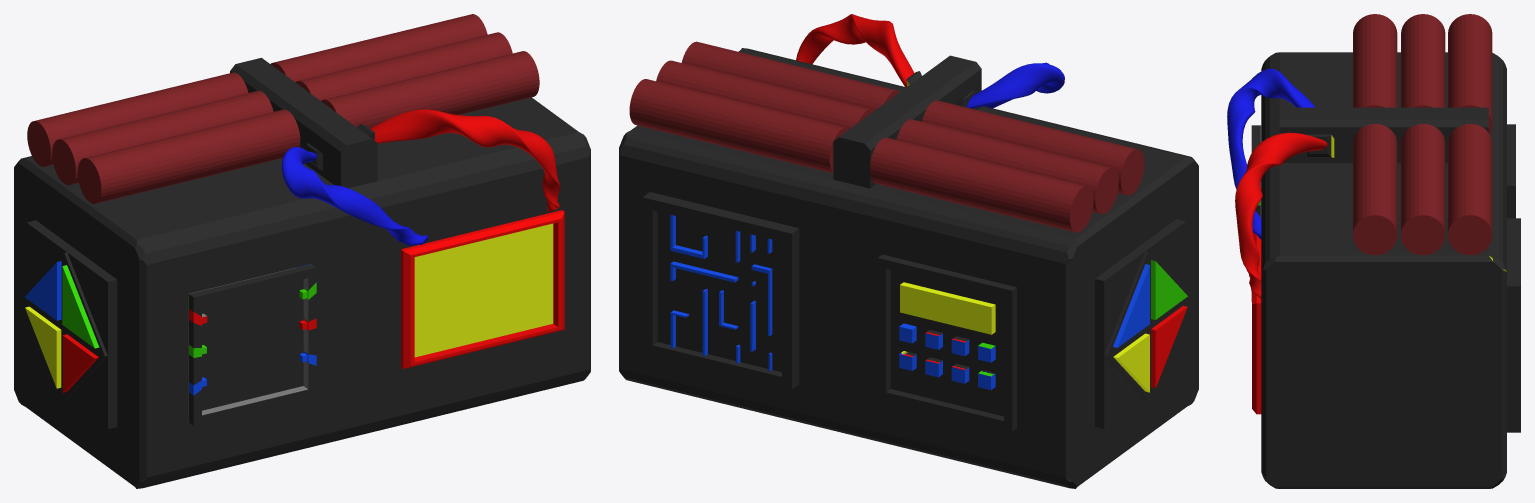
The model's file is Bomb.fbx.
3 renders of one model, left to right at view 1: azimuth 30°, elevation 25°; view 2: azimuth 150°, elevation 25°; view 3: azimuth 270°, elevation 25°, orthographic. The views are drawn at different scales.
Parts seen in each view (by area): view 1: Bomb, Cable, SimonSays, Dynamite.003, Dynamite, Dynamite.002, Dynamite.001, Dynamite.005, Cable.001, Dynamite.004, Cable.002; view 2: Bomb, Maze, NumberMatch, SimonSays, Dynamite.001, Dynamite.004, Dynamite.003, Dynamite.002, Dynamite, Dynamite.005, Cable.001, Cable.002; view 3: Bomb, Dynamite, Dynamite.004, Dynamite.005, Dynamite.001, Dynamite.002, Dynamite.003, Cable.001, Cable.002, Maze, NumberMatch, Cable.
Part boxes in pixels (bbox=[...]): Bomb: bbox=[14, 57, 590, 488]; Cable: bbox=[188, 264, 316, 425]; SimonSays: bbox=[24, 220, 117, 429]; Dynamite.003: bbox=[77, 109, 300, 203]; Dynamite: bbox=[321, 51, 539, 128]; Dynamite.002: bbox=[52, 90, 273, 185]; Dynamite.001: bbox=[27, 72, 248, 166]; Dynamite.005: bbox=[295, 32, 512, 100]; Cable.001: bbox=[370, 109, 560, 211]; Dynamite.004: bbox=[270, 14, 487, 82]; Cable.002: bbox=[281, 147, 427, 245]; Bomb: bbox=[619, 48, 1198, 488]; Maze: bbox=[642, 192, 799, 389]; NumberMatch: bbox=[877, 254, 1016, 431]; SimonSays: bbox=[1095, 219, 1188, 429]; Dynamite.001: bbox=[870, 137, 1093, 232]; Dynamite.004: bbox=[629, 79, 848, 172]; Dynamite.003: bbox=[922, 100, 1144, 195]; Dynamite.002: bbox=[896, 119, 1118, 214]; Dynamite: bbox=[681, 41, 899, 110]; Dynamite.005: bbox=[656, 60, 874, 128]; Cable.001: bbox=[796, 14, 914, 87]; Cable.002: bbox=[966, 62, 1064, 108]; Bomb: bbox=[1252, 52, 1506, 488]; Dynamite: bbox=[1353, 123, 1397, 254]; Dynamite.004: bbox=[1448, 123, 1492, 254]; Dynamite.005: bbox=[1401, 123, 1445, 254]; Dynamite.001: bbox=[1448, 14, 1492, 134]; Dynamite.002: bbox=[1401, 14, 1445, 107]; Dynamite.003: bbox=[1353, 14, 1397, 107]; Cable.001: bbox=[1235, 132, 1327, 298]; Cable.002: bbox=[1227, 68, 1315, 239]; Maze: bbox=[1507, 218, 1520, 432]; NumberMatch: bbox=[1507, 124, 1515, 218]; Cable: bbox=[1251, 125, 1261, 301].
Size of the model in its own units: 479 by 298 by 276.
